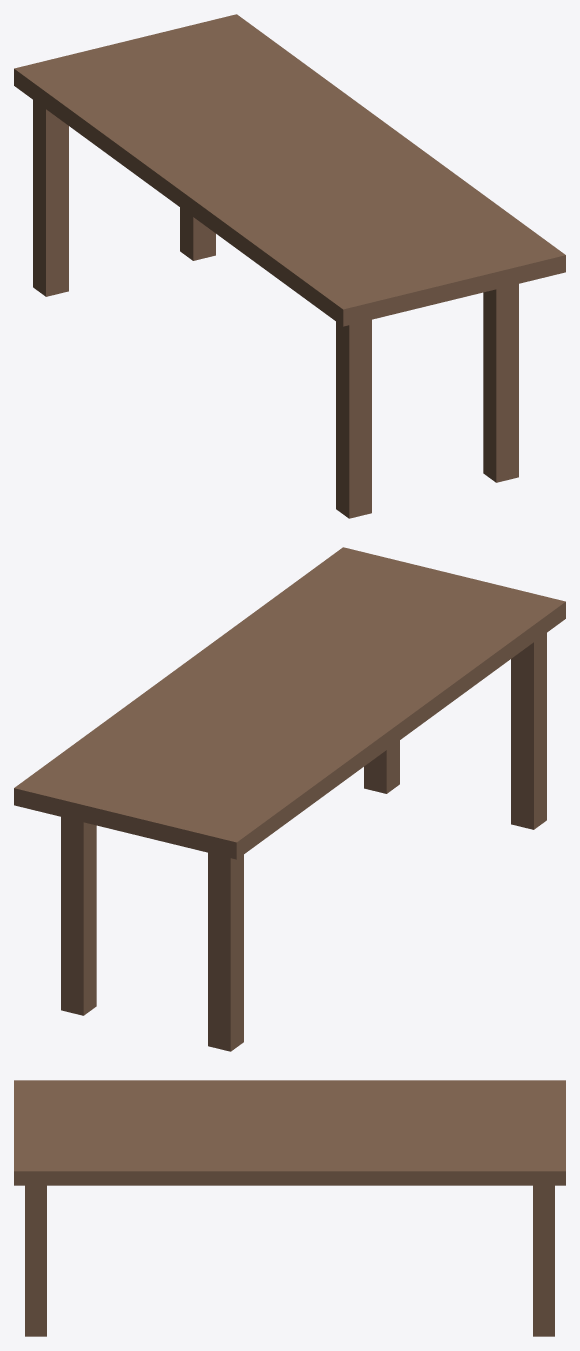
File: brown_table_3.glb
The picture shows the model from 3 angles, top to bottom: view 1: azimuth 30°, elevation 25°; view 2: azimuth 150°, elevation 25°; view 3: azimuth 270°, elevation 25°; orthographic projection. The views are drawn at different scales.
Parts seen in each view (by area): view 1: Table, Plane.002; view 2: Table, Plane.002; view 3: Table, Plane.002.
Boxes of the visible parts, x1=… form: Table: x1=14, y1=14, x2=565, y2=326; Plane.002: x1=33, y1=100, x2=518, y2=518; Table: x1=14, y1=547, x2=565, y2=859; Plane.002: x1=61, y1=633, x2=546, y2=1051; Table: x1=14, y1=1080, x2=565, y2=1185; Plane.002: x1=25, y1=1185, x2=554, y2=1336.
Bounding box in the file's own units: 1.95 × 1.82 × 5.
